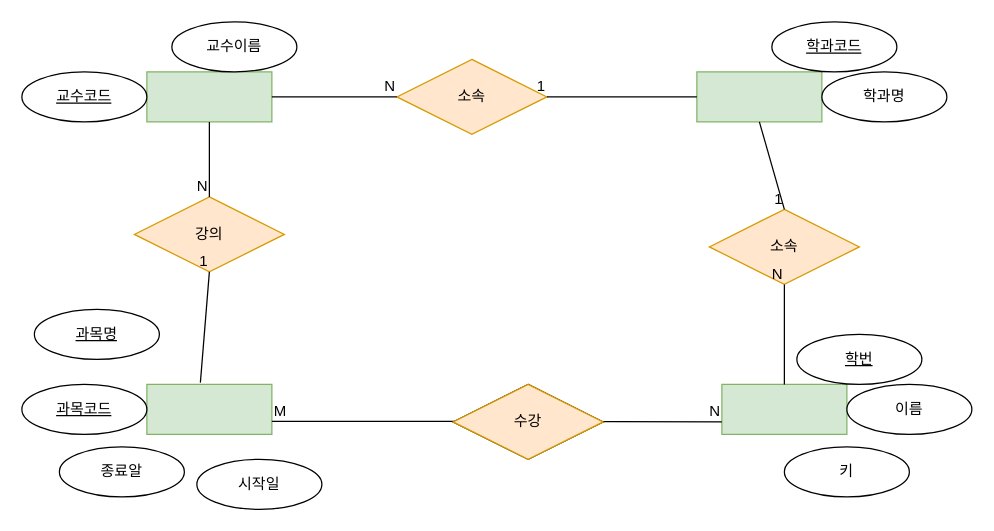
Image size: 994x531. Some labels were removed from this diagram. Here are the shapes that lost their labels. From the top down, the centre of each, then its label:
At [209,96]: "교수".
At [759,96]: "학과".
At [209,408]: "과목".
At [784,408]: "학생".
